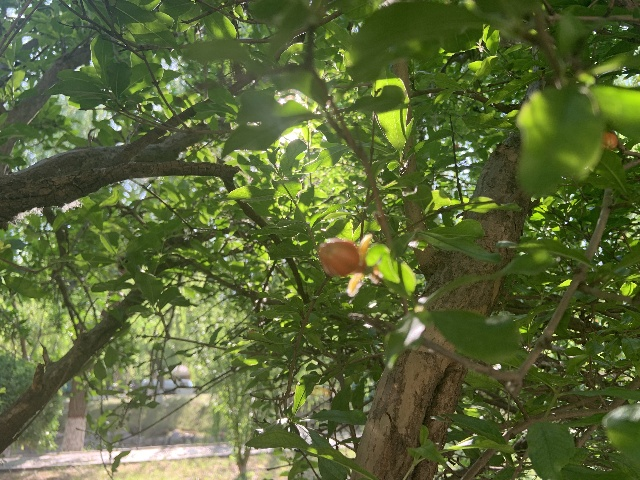bud: (318, 237, 369, 276), (601, 131, 617, 150)
